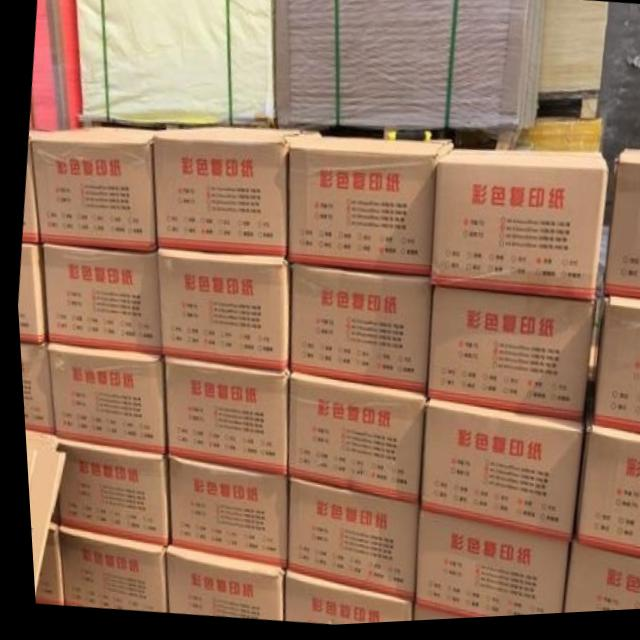box: (426, 151, 607, 306), (284, 139, 452, 279), (415, 401, 576, 542), (423, 291, 589, 425), (151, 127, 313, 257), (280, 374, 419, 506), (285, 266, 427, 395), (409, 511, 562, 622), (29, 125, 161, 253), (279, 480, 412, 603), (155, 250, 283, 370), (160, 357, 281, 478), (163, 457, 282, 569), (44, 342, 161, 453), (39, 244, 155, 353), (50, 439, 162, 547), (568, 429, 640, 562), (50, 533, 160, 614), (159, 547, 275, 623), (587, 302, 640, 438), (276, 574, 403, 627), (600, 153, 640, 305), (557, 548, 637, 619), (16, 342, 49, 432), (14, 244, 41, 343), (28, 524, 55, 604), (18, 139, 35, 243), (405, 610, 464, 625)
